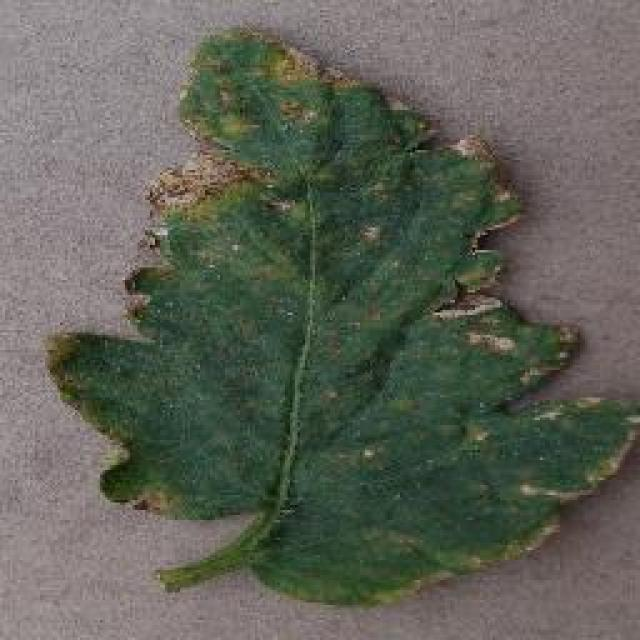Tomato bacterial spot leaf: (41, 28, 640, 609)
